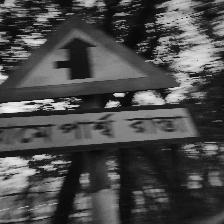Side-road-left: (0, 13, 207, 156)
